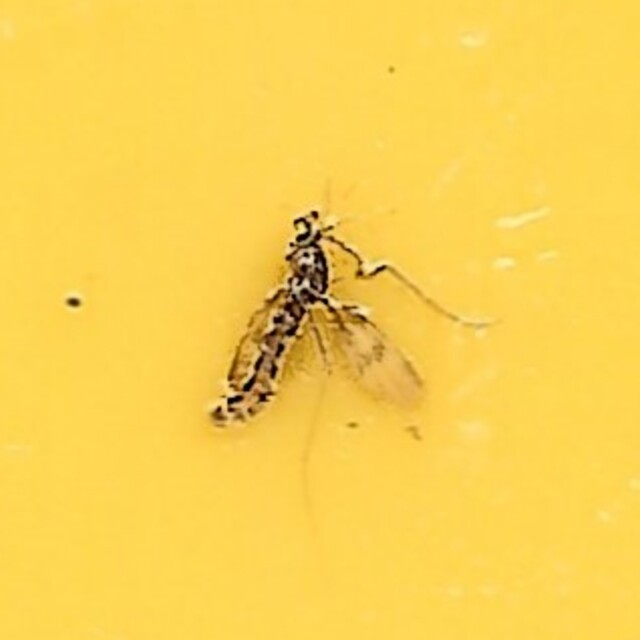Nematocera: (201, 207, 439, 433)
